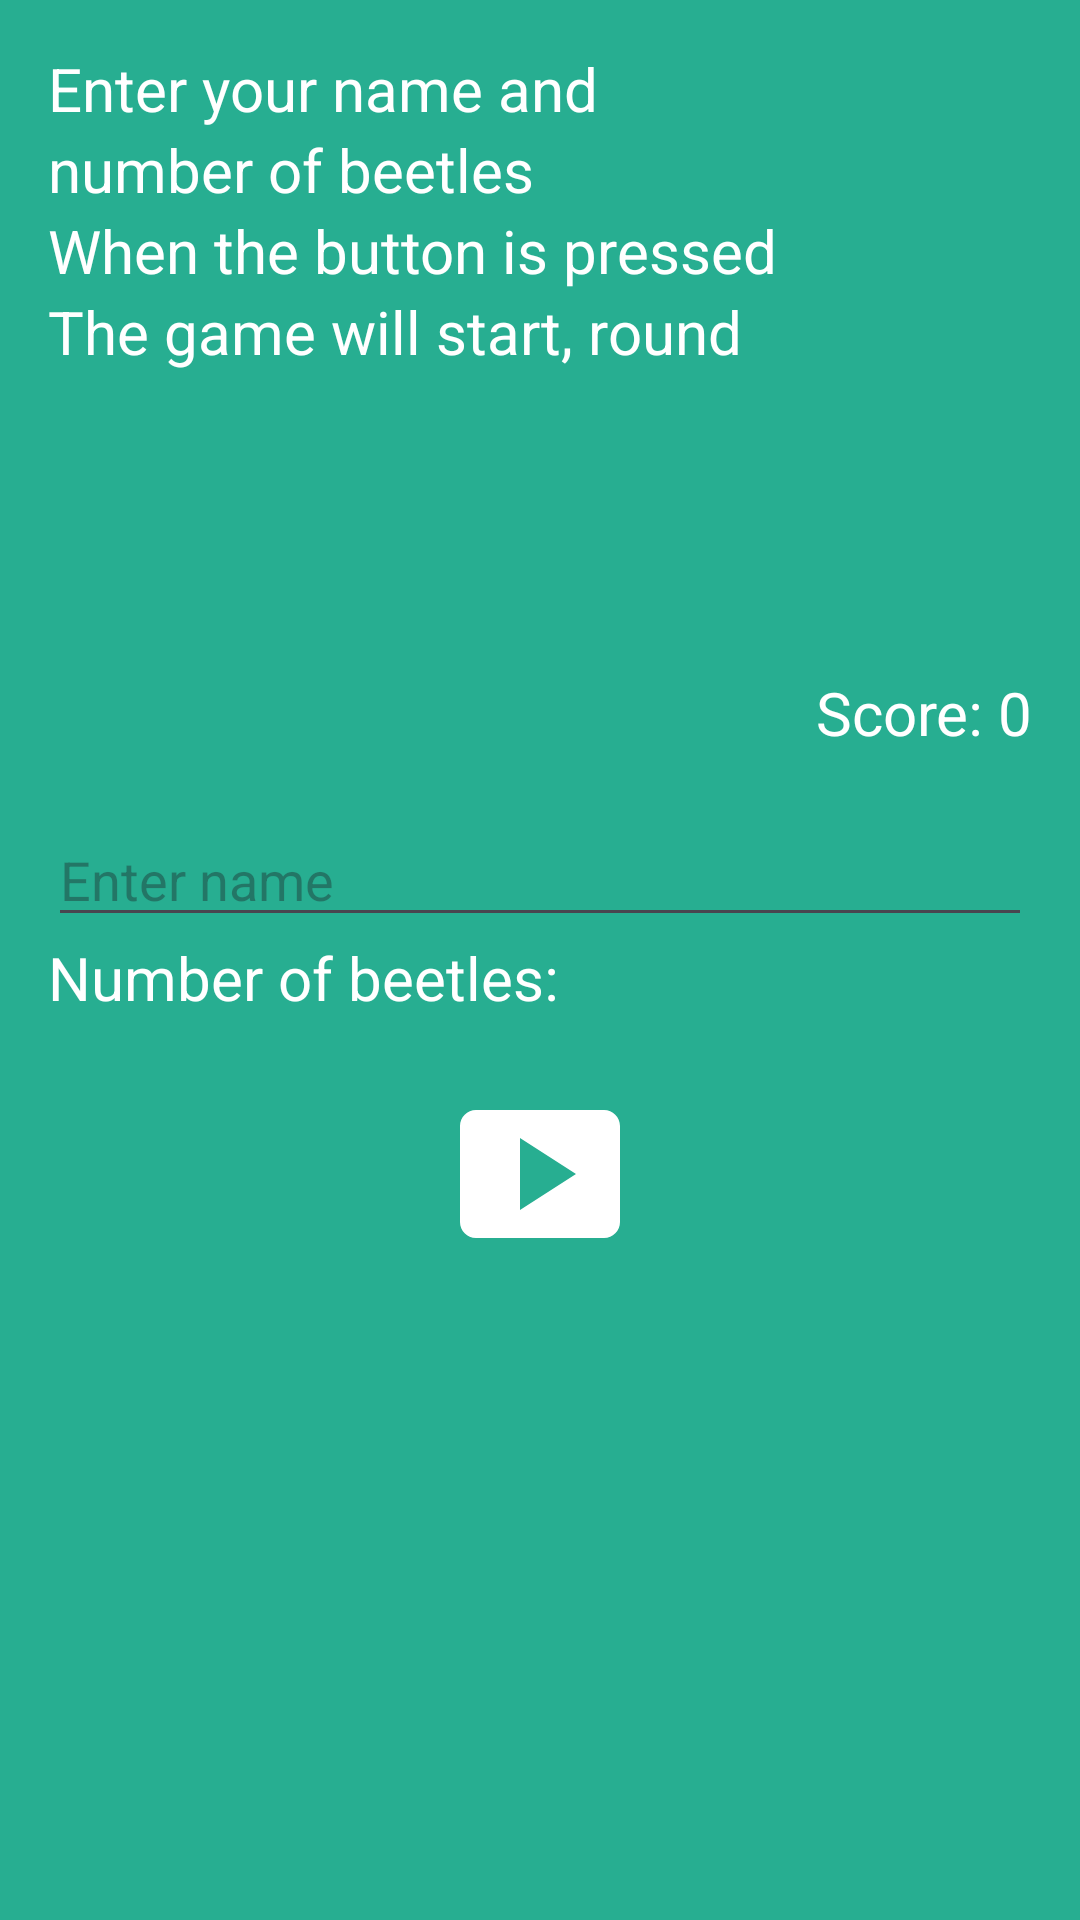

Screen size 1080 x 1920. Icon name, then its box in pixels as (x1, y1, x2, y2):
play: (460, 1110, 620, 1238)
